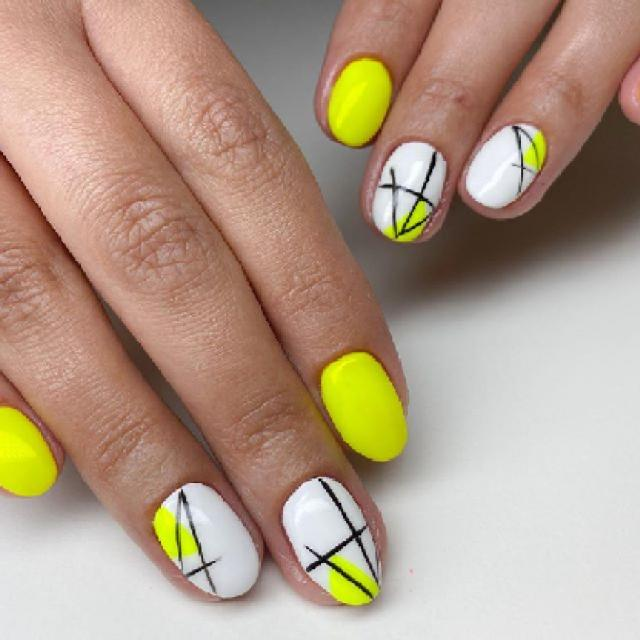Nail: (282, 476, 381, 604), (152, 482, 260, 598), (320, 351, 408, 461), (371, 141, 446, 241), (465, 125, 546, 208), (328, 58, 392, 147), (0, 406, 58, 496)
